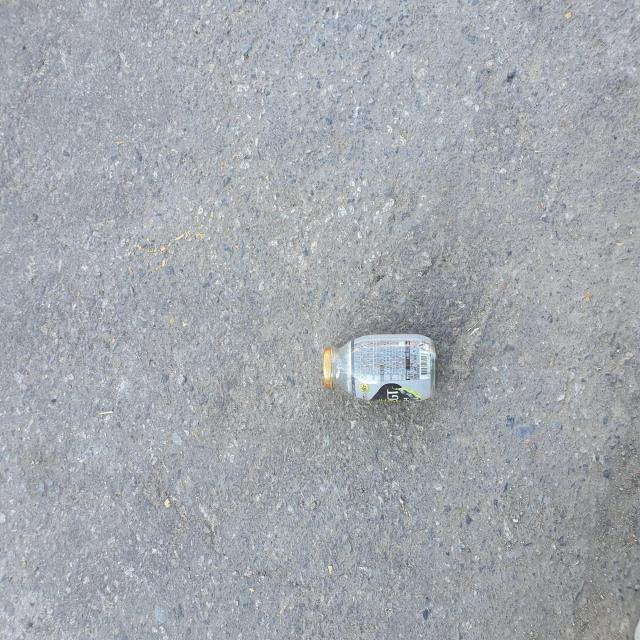glass: (323, 334, 437, 402)
